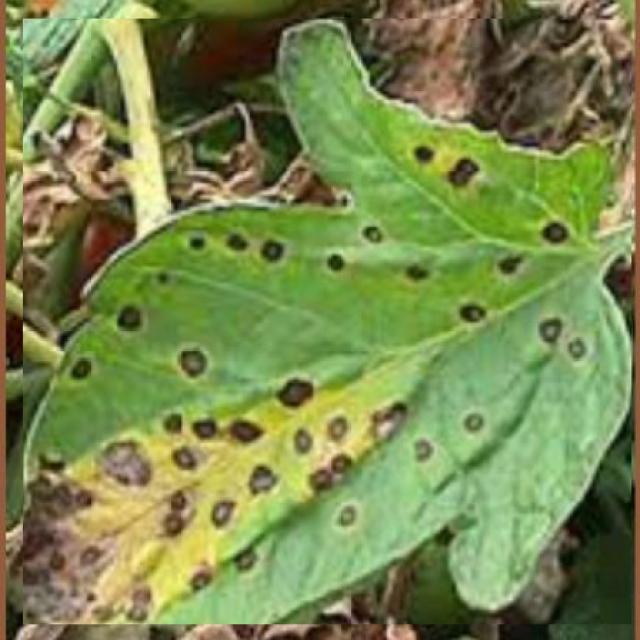Septoria: (24, 19, 632, 624)
